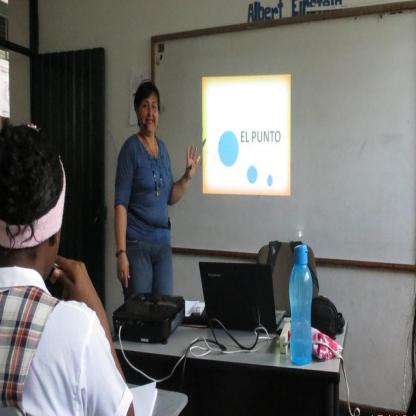board: (199, 260, 285, 330), (290, 244, 312, 367)
